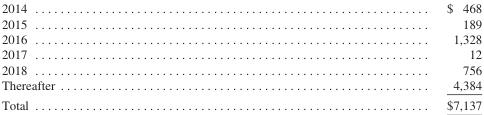table: (0, 0, 481, 112)
table column: (0, 0, 250, 112), (250, 0, 481, 112)
table row: (0, 76, 481, 94), (0, 94, 481, 112), (0, 30, 481, 46), (0, 0, 481, 15), (0, 15, 481, 30), (0, 46, 481, 61), (0, 61, 481, 76)
